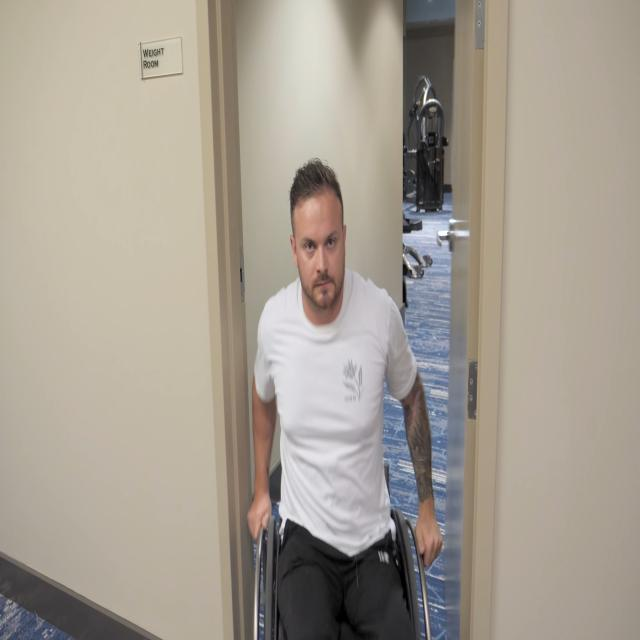wheelchairs: (249, 449, 440, 640)
